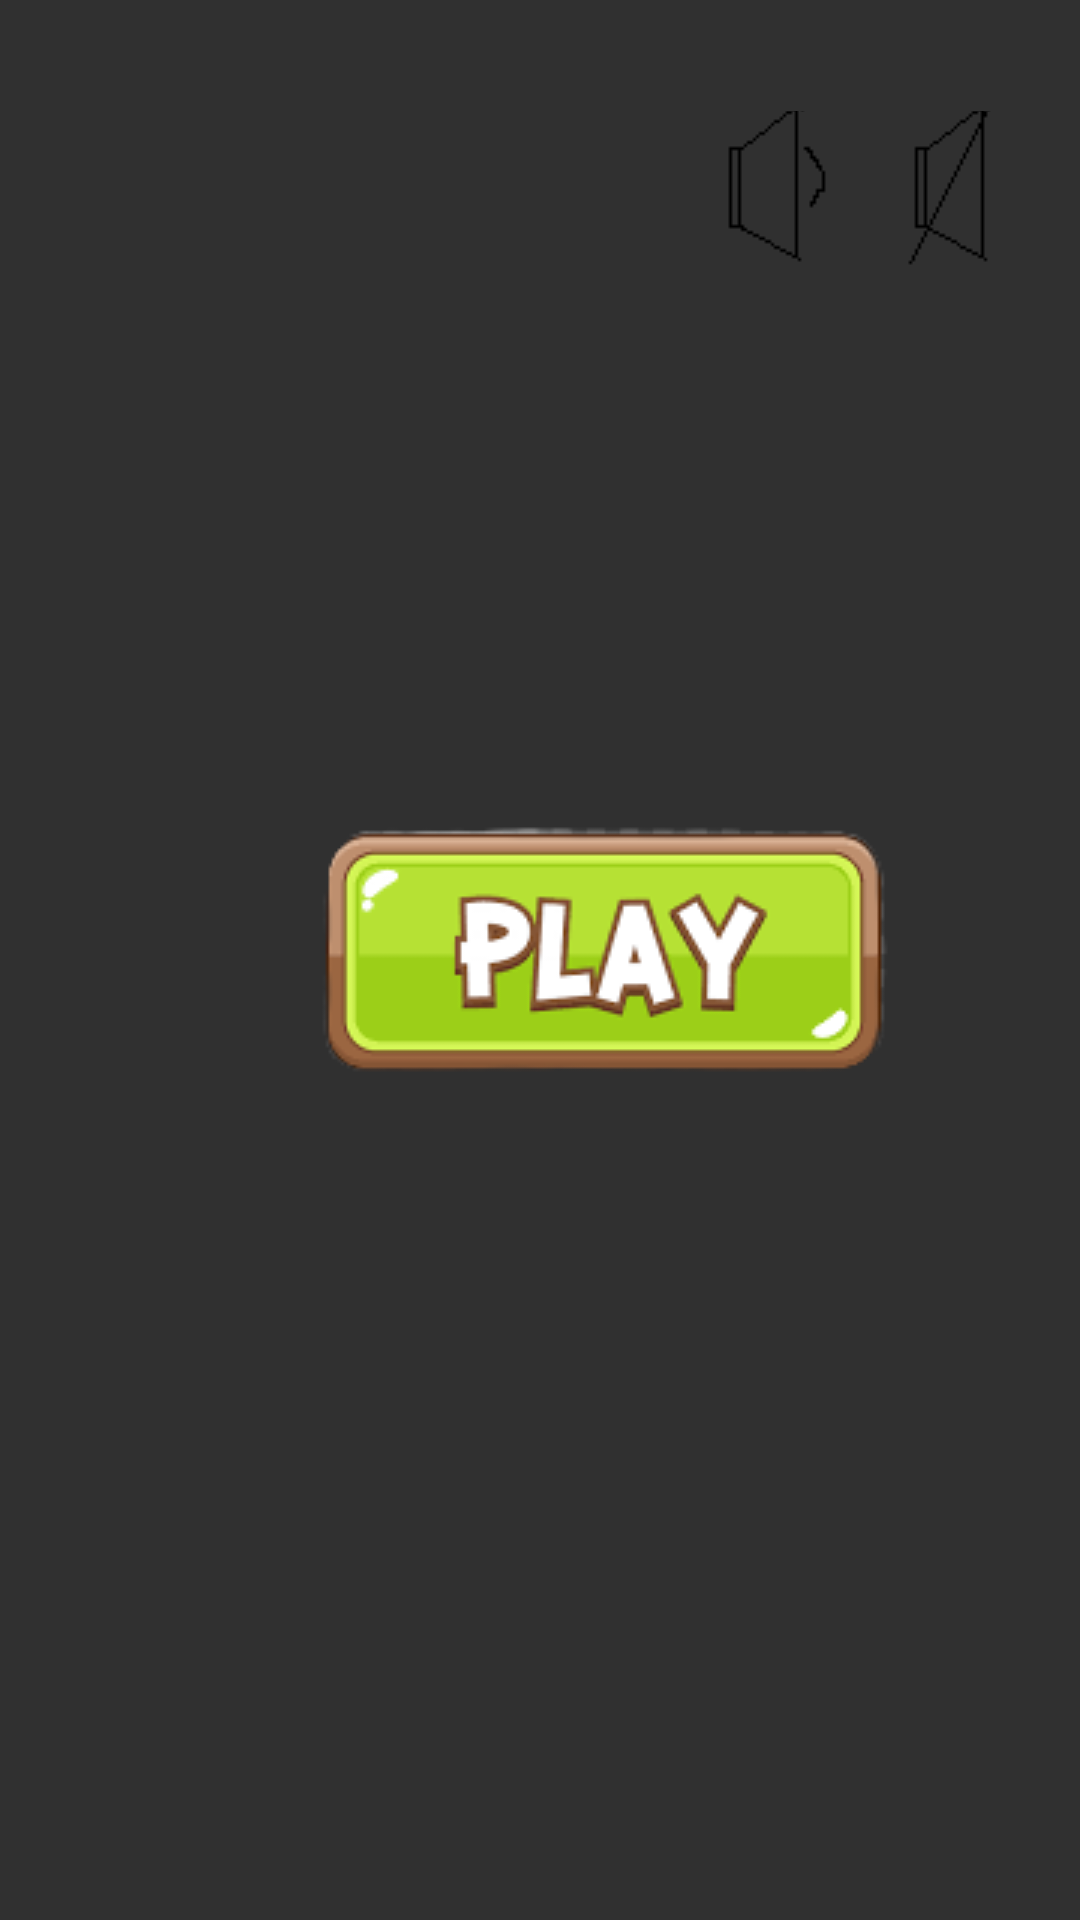

Where icons sit on this 1080px x 1920px app screen, as [x1,y1,x2,y2]:
sesac: [729,111,825,261]
seskapa: [909,111,987,264]
